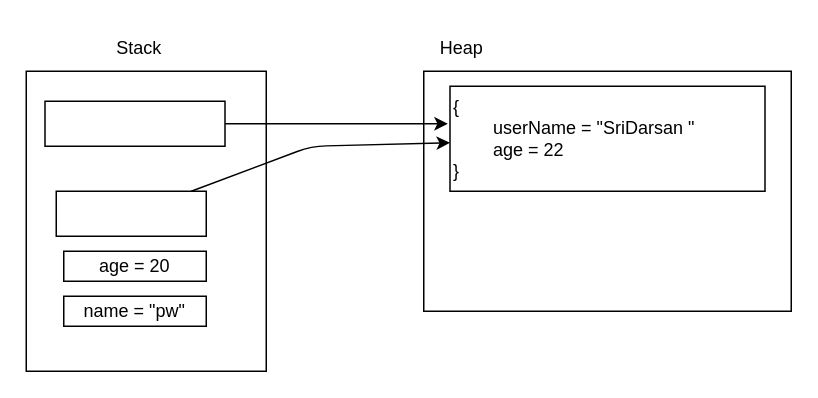
Some shapes in this 818 by 398 pixel diagram are drawn without their labels. The centre of each missing label's shape, as x and y in pixels:
"user" belongs at (130,213).
"user2 = user" belongs at (134,123).
